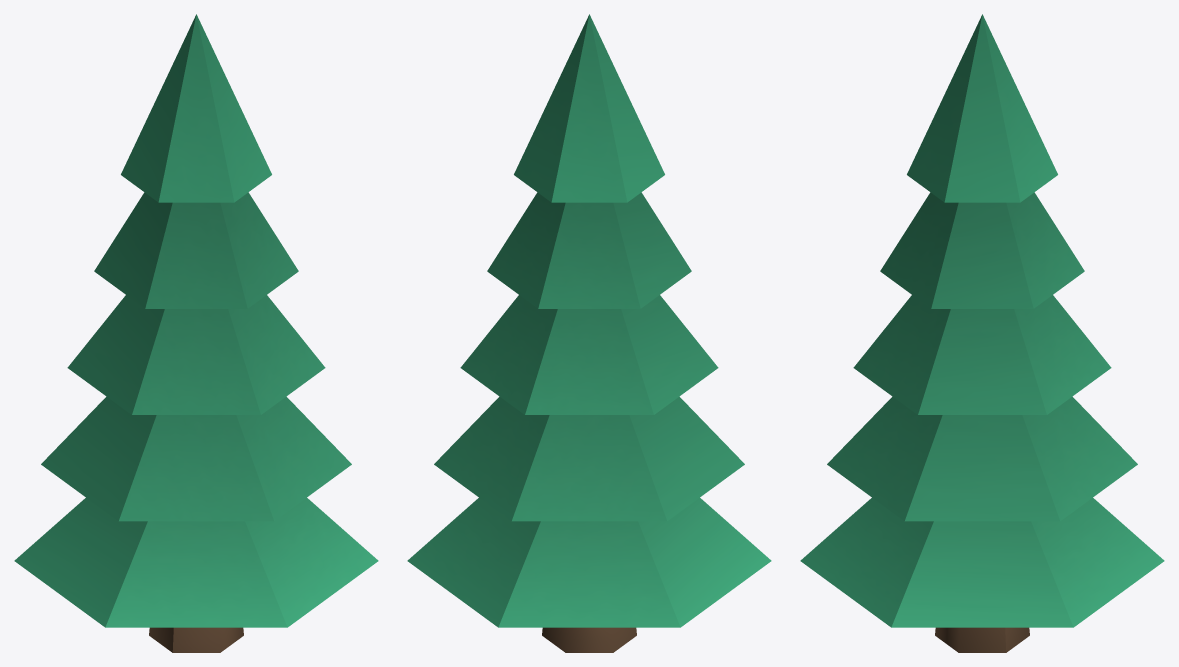
The model's file is tree1.glb.
3 renders of one model, left to right at view 1: azimuth 30°, elevation 25°; view 2: azimuth 150°, elevation 25°; view 3: azimuth 270°, elevation 25°, orthographic.
Parts seen in each view (by area): view 1: Tree.004; view 2: Tree.004; view 3: Tree.004.
Part boxes in pixels (<box>): Tree.004: <box>14,14,378,652</box>; Tree.004: <box>407,14,771,652</box>; Tree.004: <box>800,14,1164,652</box>.
Bounding box in the file's own units: 2.83 × 6.14 × 3.26.
1 material, 1 textured.
